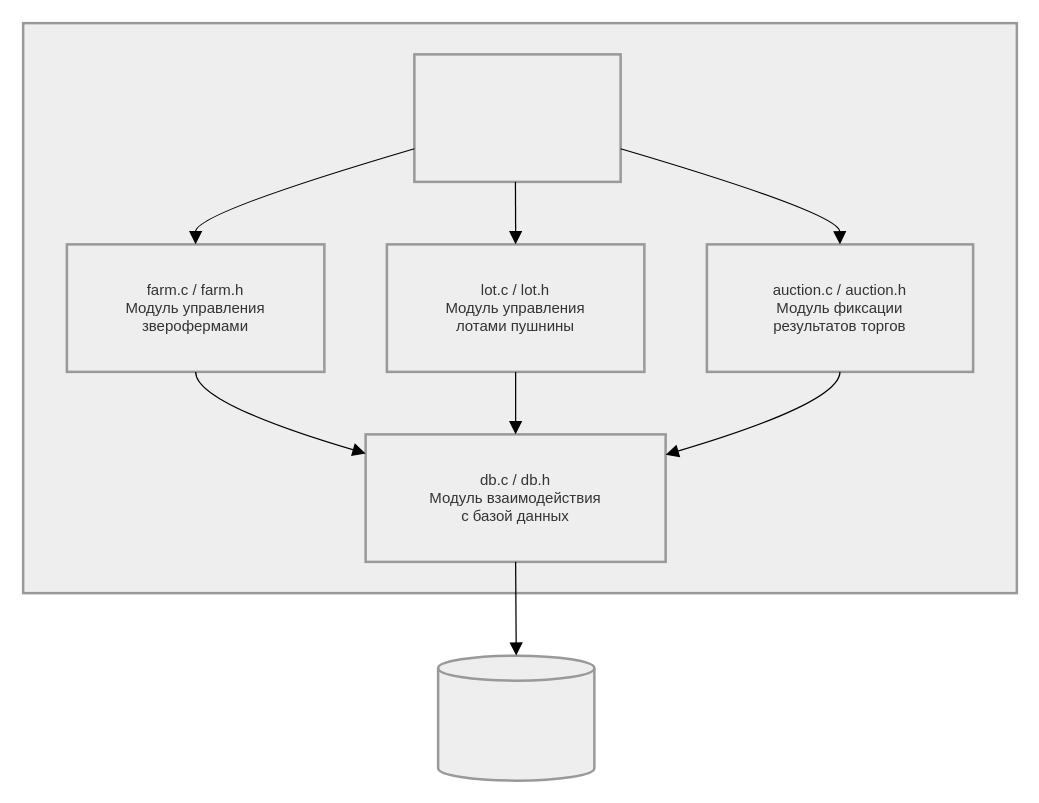
Image size: 1039x803. Some labels were removed from this diagram. The shapes that lost their labels are listed below. From the top down, each one's centre as x and y in pixels, then its label:
(516,117): main.c Точка входа Главное меню
(515,717): SQLite3 Library libsqlite3
